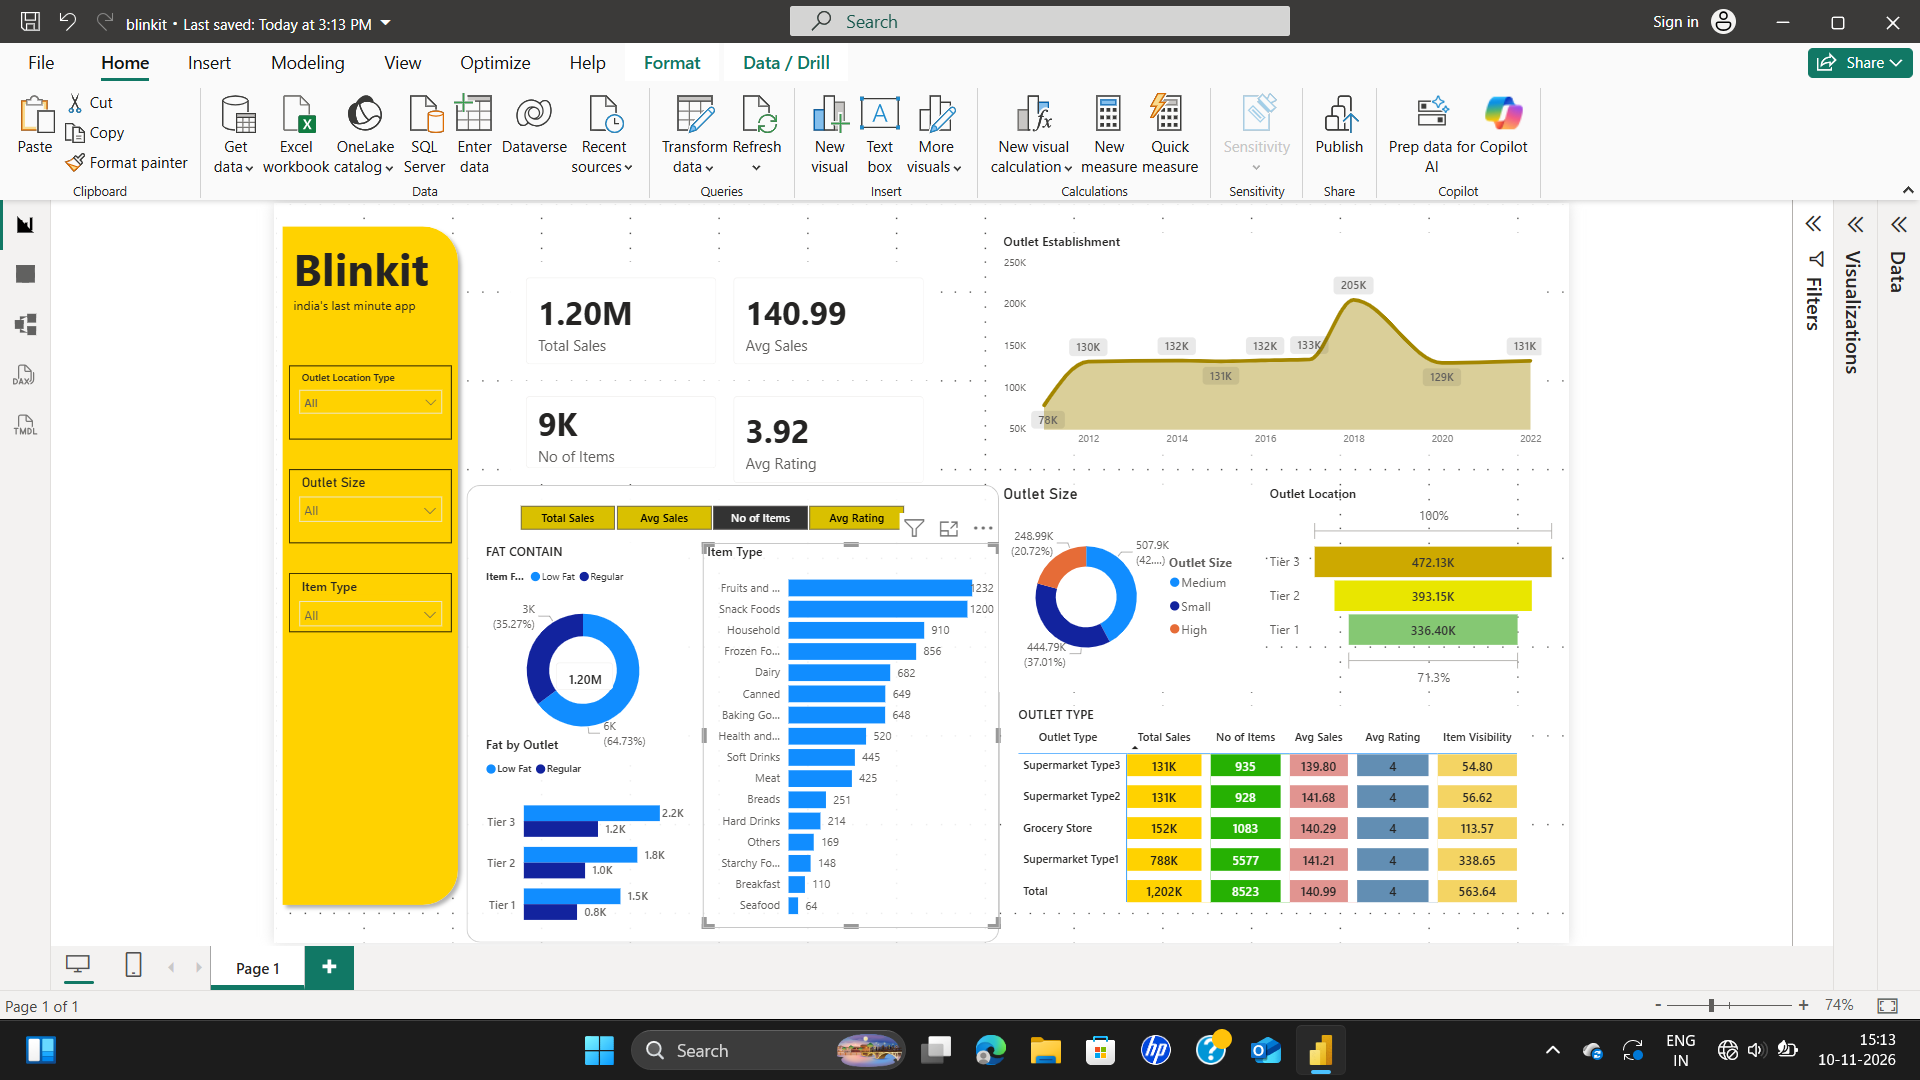

This screenshot's page, from the dashboard's own definition file:
{"tool":"powerbi","page":{"name":"Page 1","canvas":[1400,800],"ordinal":0},"visuals":[{"type":"shape","box":[0,16,208,752],"z":0},{"type":"textbox","box":[16,32,160,80],"z":1000},{"type":"textbox","box":[16,96,144,32],"z":2000},{"type":"cardVisual","fields":{"Data":["BlinkIT Grocery Data.Total Sales"]},"box":[256,64,240,128],"z":3000},{"type":"cardVisual","fields":{"Data":["BlinkIT Grocery Data.Avg Sales"]},"box":[480,64,240,128],"z":4000},{"type":"cardVisual","fields":{"Data":["BlinkIT Grocery Data.No of Items"]},"box":[256,192,240,112],"z":5000},{"type":"cardVisual","fields":{"Data":["BlinkIT Grocery Data.Avg Rating"]},"box":[480,192,240,128],"z":6000},{"type":"shape","box":[208,304,576,496],"z":7000},{"type":"donutChart","title":"FAT CONTAIN","fields":{"Category":["BlinkIT Grocery Data.Item Fat Content"],"Y":["BlinkIT Grocery Data.No of Items"]},"box":[224,368,220,230],"z":8000},{"type":"slicer","fields":{"Values":["Metrics.Metrics"]},"box":[240,320,465,40],"z":9000},{"type":"cardVisual","fields":{"Data":["BlinkIT Grocery Data.Total Sales"]},"box":[288,480,96,64],"z":10000},{"type":"clusteredBarChart","title":"Fat by Outlet ","fields":{"Category":["BlinkIT Grocery Data.Outlet Location Type"],"Series":["BlinkIT Grocery Data.Item Fat Content"],"Y":["BlinkIT Grocery Data.No of Items"]},"box":[224,576,224,224],"z":11000},{"type":"barChart","title":"Item Type","fields":{"Category":["BlinkIT Grocery Data.Item Type"],"Y":["BlinkIT Grocery Data.No of Items"]},"box":[464,368,320,416],"z":12000},{"type":"lineChart","title":" Outlet Establishment ","fields":{"Category":["BlinkIT Grocery Data.Outlet Establishment Year"],"Y":["BlinkIT Grocery Data.Total Sales"]},"box":[784,32,592,240],"z":13000},{"type":"donutChart","title":"Outlet Size","fields":{"Category":["BlinkIT Grocery Data.Outlet Size"],"Y":["BlinkIT Grocery Data.Total Sales"]},"box":[784,304,275,225],"z":14000},{"type":"funnel","title":" Outlet Location ","fields":{"Category":["BlinkIT Grocery Data.Outlet Location Type"],"Y":["Sum(BlinkIT Grocery Data.Sales)"]},"box":[1072,304,320,224],"z":15000},{"type":"pivotTable","title":"OUTLET TYPE","fields":{"Rows":["BlinkIT Grocery Data.Outlet Type"],"Values":["BlinkIT Grocery Data.Total Sales","BlinkIT Grocery Data.No of Items","BlinkIT Grocery Data.Avg Sales","BlinkIT Grocery Data.Avg Rating","Sum(BlinkIT Grocery Data.Item Visibility)"]},"box":[800,544,560,224],"z":16000},{"type":"slicer","fields":{"Values":["BlinkIT Grocery Data.Outlet Location Type"]},"box":[16,176,176,80],"z":17000},{"type":"slicer","fields":{"Values":["BlinkIT Grocery Data.Outlet Size"]},"box":[16,288,176,80],"z":17001},{"type":"slicer","fields":{"Values":["BlinkIT Grocery Data.Item Type"]},"box":[16,400,176,64],"z":17002}]}

Visuals, with their boxes on the page's 1400x800 design canvas (x1, y1, x2, y2). These are canvas units, not pixel positions in the 1920x1080 screenshot, which may show the page scaled, cropped or inside an application window:
shape: crop(0, 16, 208, 768)
textbox: crop(16, 32, 176, 112)
textbox: crop(16, 96, 160, 128)
cardVisual - BlinkIT Grocery Data.Total Sales: crop(256, 64, 496, 192)
cardVisual - BlinkIT Grocery Data.Avg Sales: crop(480, 64, 720, 192)
cardVisual - BlinkIT Grocery Data.No of Items: crop(256, 192, 496, 304)
cardVisual - BlinkIT Grocery Data.Avg Rating: crop(480, 192, 720, 320)
shape: crop(208, 304, 784, 800)
"FAT CONTAIN" donutChart: crop(224, 368, 444, 598)
slicer - Metrics.Metrics: crop(240, 320, 705, 360)
cardVisual - BlinkIT Grocery Data.Total Sales: crop(288, 480, 384, 544)
"Fat by Outlet " clusteredBarChart: crop(224, 576, 448, 800)
"Item Type" barChart: crop(464, 368, 784, 784)
" Outlet Establishment " lineChart: crop(784, 32, 1376, 272)
"Outlet Size" donutChart: crop(784, 304, 1059, 529)
" Outlet Location " funnel: crop(1072, 304, 1392, 528)
"OUTLET TYPE" pivotTable: crop(800, 544, 1360, 768)
slicer - BlinkIT Grocery Data.Outlet Location Type: crop(16, 176, 192, 256)
slicer - BlinkIT Grocery Data.Outlet Size: crop(16, 288, 192, 368)
slicer - BlinkIT Grocery Data.Item Type: crop(16, 400, 192, 464)
